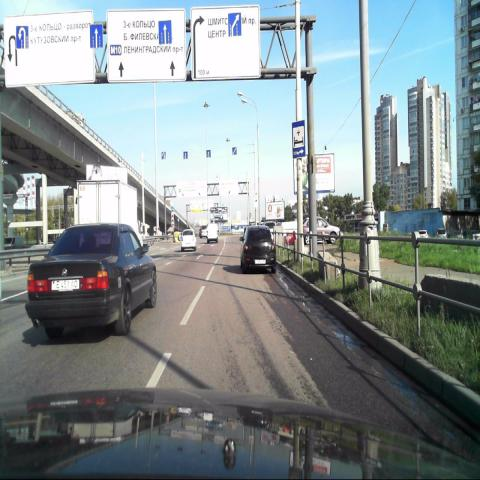5_15_2: (157, 20, 172, 46), (228, 12, 241, 36)
7_2: (293, 122, 305, 158)
